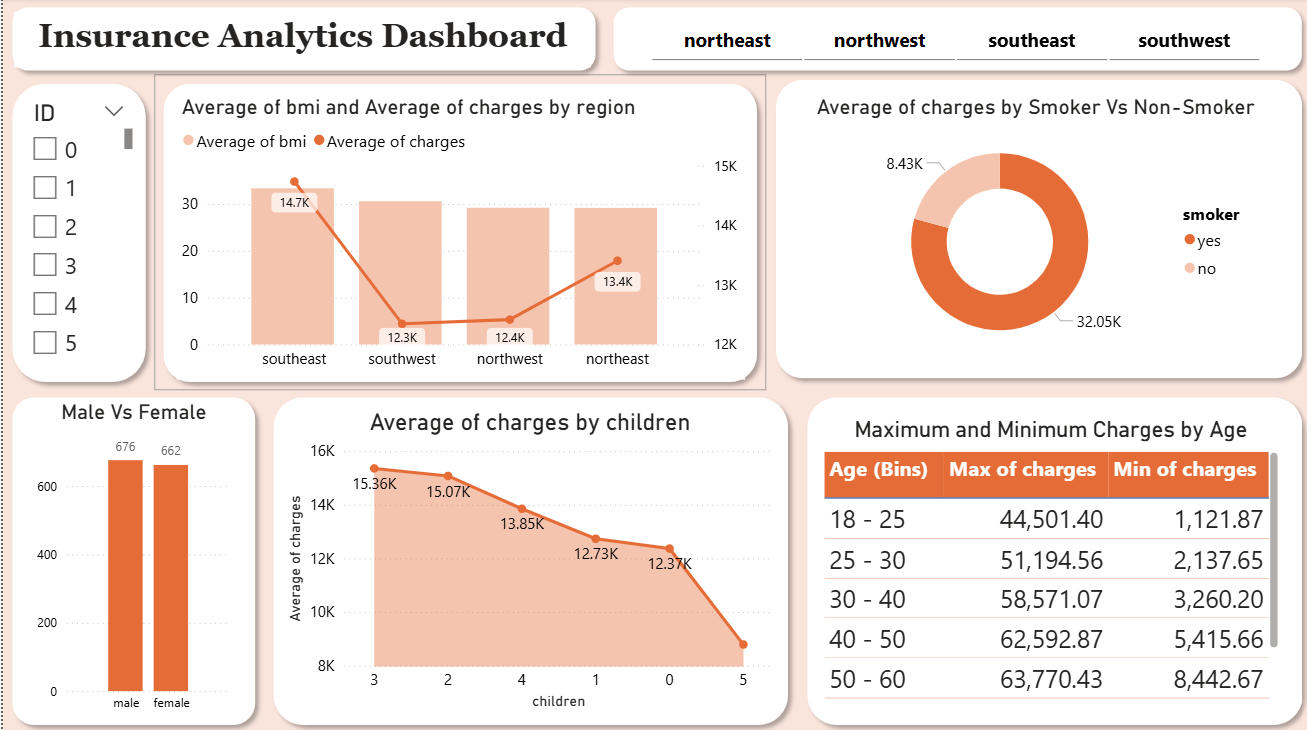

Layout of this report page (visuals, bound fields, positions):
{"tool":"powerbi","page":{"name":"Page 1","canvas":[1280,720],"ordinal":0},"visuals":[{"type":"shape","box":[255.7,381.4,521.4,338.6],"z":0},{"type":"shape","box":[0,381.4,255.7,338.6],"z":1000},{"type":"shape","box":[777.1,381.4,502.9,338.6],"z":2000},{"type":"shape","box":[148.6,74.3,598.6,310],"z":3000},{"type":"shape","box":[747.1,71.4,532.9,310],"z":4000},{"type":"shape","box":[0,74.3,148.6,310],"z":5000},{"type":"shape","box":[588.6,0,691.4,80],"z":6000},{"type":"slicer","fields":{"Values":["insurance.ID"]},"box":[17.1,94.3,114.3,265.7],"z":7000},{"type":"slicer","fields":{"Values":["insurance.region"]},"box":[608.6,12.9,644.3,54.3],"z":8000},{"type":"tableEx","title":"Maximum and Minimum Charges by Age","fields":{"Values":["insurance.Age (Bins)","Max(insurance.charges)","Min(insurance.charges)1"]},"box":[797.1,410,455.7,288.6],"z":9000},{"type":"clusteredColumnChart","title":"Male Vs Female","fields":{"Category":["insurance.sex"],"Y":["CountNonNull(insurance.sex)"]},"box":[28.6,392.9,200,315.7],"z":10000},{"type":"donutChart","title":"Average of charges by Smoker Vs Non-Smoker","fields":{"Category":["insurance.smoker"],"Y":["Avg(insurance.charges)"]},"box":[791.4,94.3,444.3,265.7],"z":11000},{"type":"lineStackedColumnComboChart","fields":{"Category":["insurance.region"],"Y":["Avg(insurance.bmi)"],"Y2":["Avg(insurance.charges)"]},"box":[170,94.3,555.7,279],"z":12000},{"type":"shape","title":"Insurance Analytics Dashboard","box":[0,0,588.6,80],"z":13000},{"type":"textbox","box":[11.4,12.9,564.3,54.3],"z":14000},{"type":"stackedAreaChart","fields":{"Category":["insurance.children"],"Y":["Avg(insurance.charges)"]},"box":[272.9,401.4,485.7,300],"z":15000}]}

Visuals, with their boxes in screenshot pixels (x1, y1, x2, y2), scaled from the page's 1280x720 canvas onto the 1307x730 screenshot:
shape: (261, 387, 793, 729)
shape: (0, 387, 261, 729)
shape: (793, 387, 1306, 729)
shape: (152, 75, 763, 390)
shape: (763, 72, 1306, 387)
shape: (0, 75, 152, 390)
shape: (601, 0, 1306, 81)
slicer - insurance.ID: (17, 96, 134, 365)
slicer - insurance.region: (621, 13, 1279, 68)
"Maximum and Minimum Charges by Age" tableEx: (814, 416, 1279, 708)
"Male Vs Female" clusteredColumnChart: (29, 398, 233, 718)
"Average of charges by Smoker Vs Non-Smoker" donutChart: (808, 96, 1262, 365)
lineStackedColumnComboChart - insurance.region x Avg(insurance.bmi): (174, 96, 741, 378)
"Insurance Analytics Dashboard" shape: (0, 0, 601, 81)
textbox: (12, 13, 588, 68)
stackedAreaChart - insurance.children x Avg(insurance.charges): (279, 407, 775, 711)
